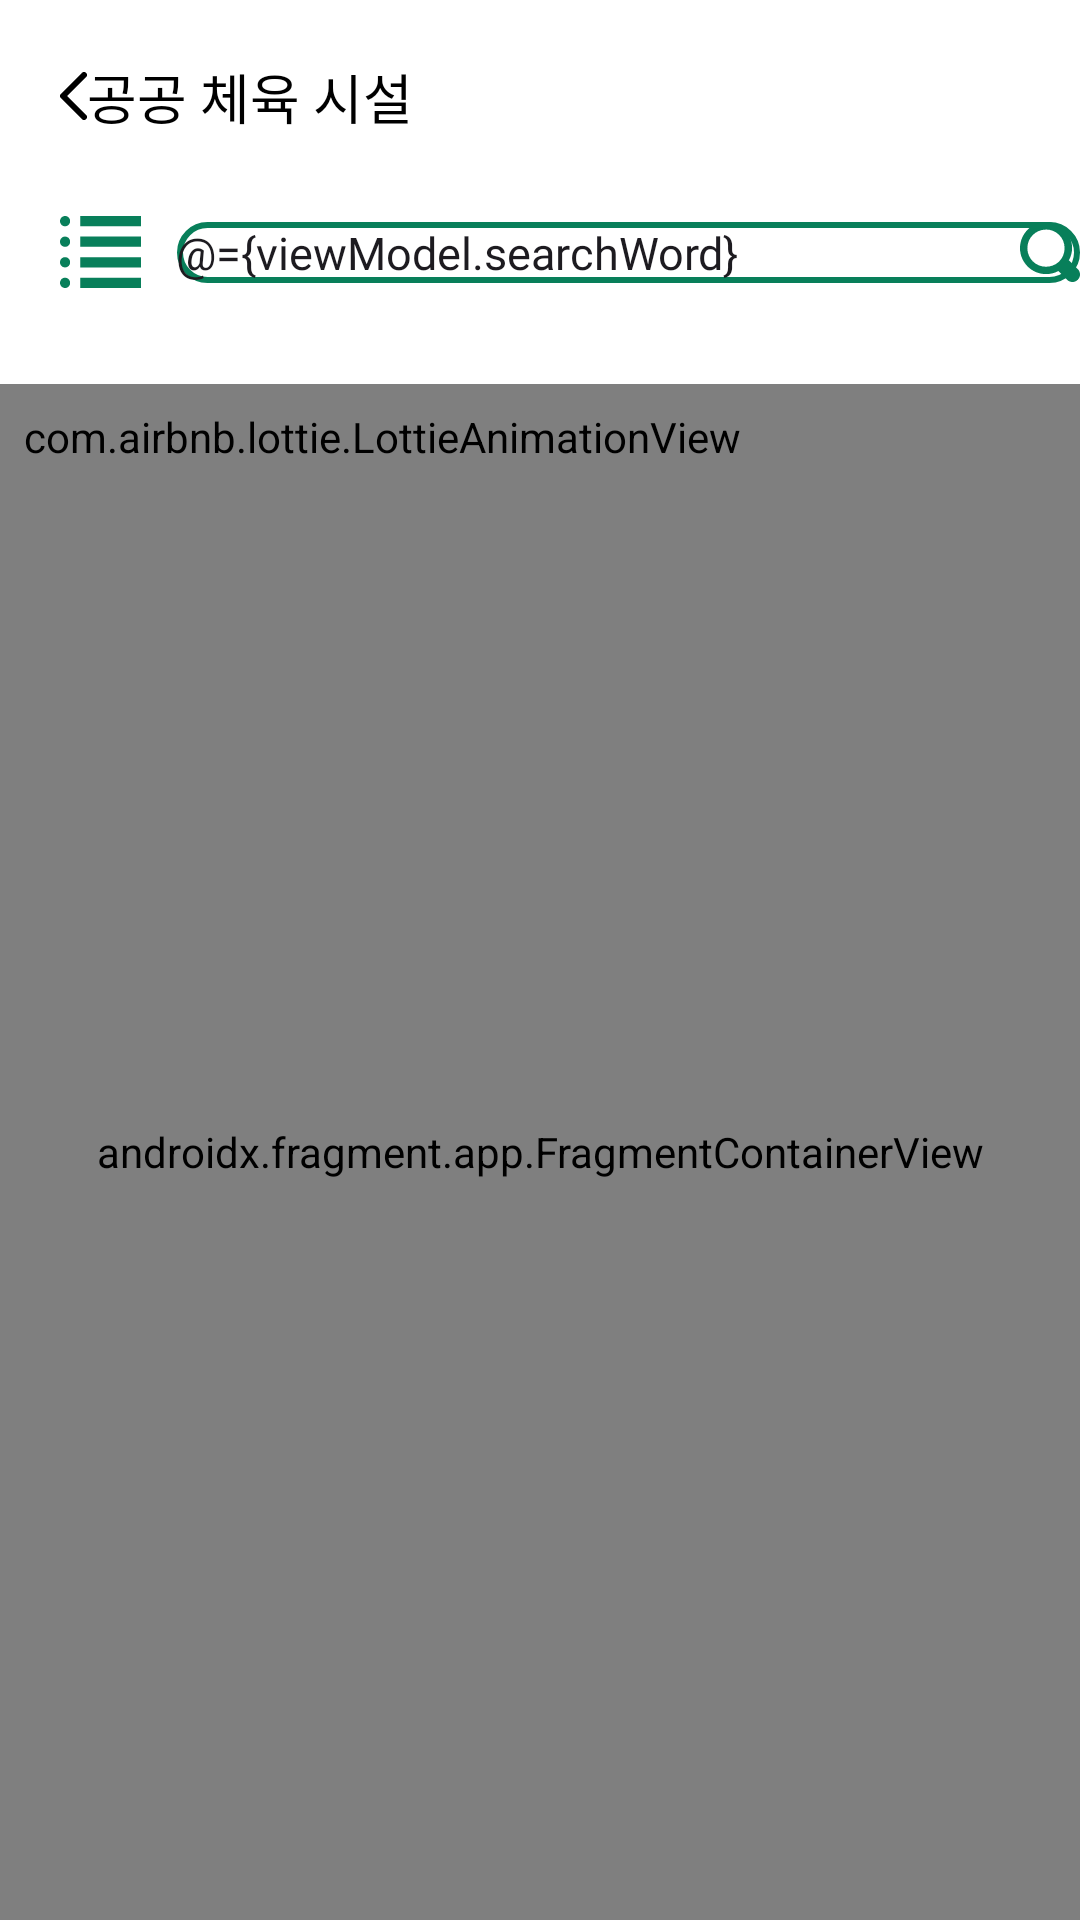

Screen size 1080x1920. Icon name, then its center in pixels as [x,y]:
back: [73,96]
list: [100,252]
